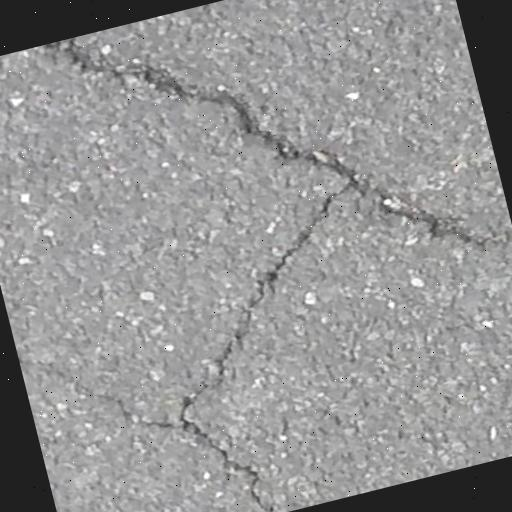spalling: (43, 38, 490, 258), (165, 201, 338, 512)
